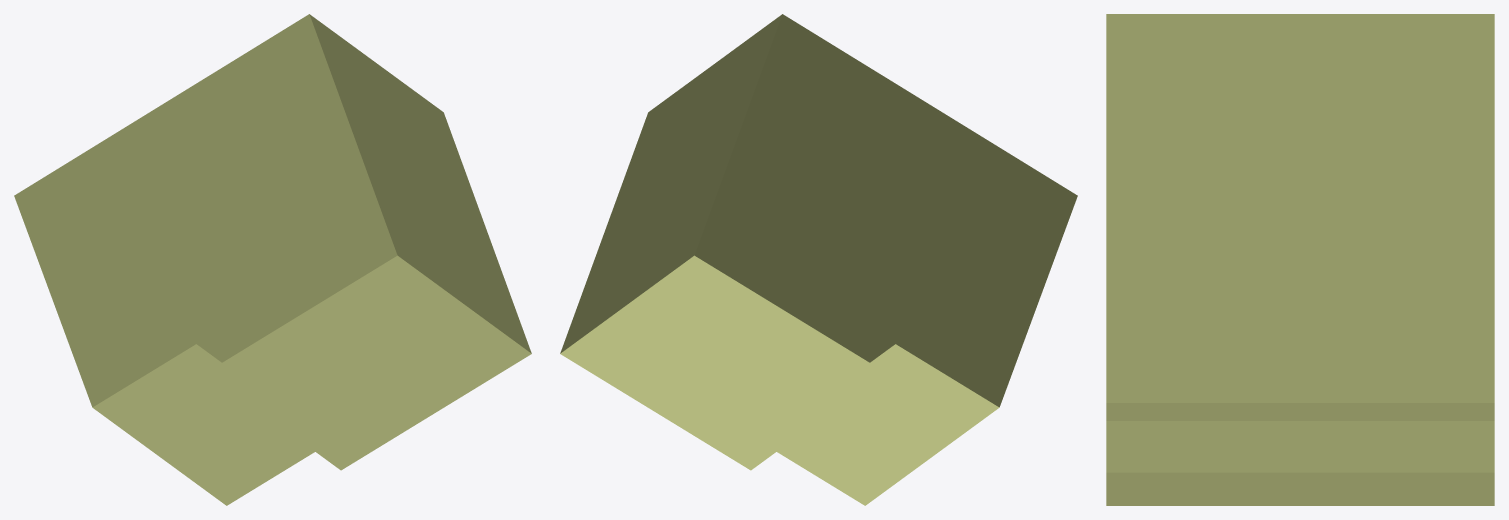
The picture shows the model from 3 angles, left to right: view 1: azimuth 30°, elevation 25°; view 2: azimuth 150°, elevation 25°; view 3: azimuth 270°, elevation 25°; orthographic projection. The views are drawn at different scales.
Parts seen in each view (by area): view 1: 0_1_0_2_0_2_0_3_2_1; view 2: 0_1_0_2_0_2_0_3_2_1; view 3: 0_1_0_2_0_2_0_3_2_1.
Boxes of the visible parts, bbox=[...] form: 0_1_0_2_0_2_0_3_2_1: bbox=[14, 14, 531, 505]; 0_1_0_2_0_2_0_3_2_1: bbox=[560, 14, 1077, 505]; 0_1_0_2_0_2_0_3_2_1: bbox=[1106, 14, 1494, 505].
Size of the model in its own units: 9.89 by 8.39 by 6.
